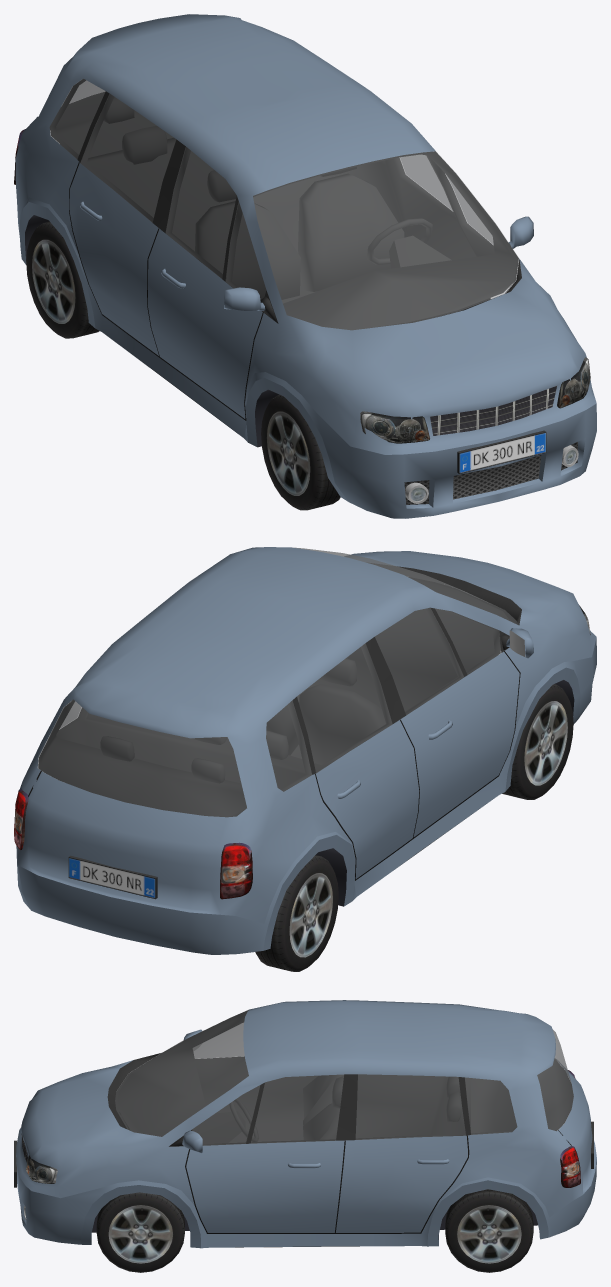
The model's file is sweethome3d-scopia-minivan.glb.
The picture shows the model from 3 angles, top to bottom: view 1: azimuth 30°, elevation 25°; view 2: azimuth 150°, elevation 25°; view 3: azimuth 270°, elevation 25°; orthographic projection. The views are drawn at different scales.
Visible parts, largest first — view 1: Car, Glass, Interior, wheels, HeadLights, LicensePlate, Lines, FogLights; view 2: Car, Glass, Interior, wheels, RearLights, LicensePlate, Lines; view 3: Car, Glass, Interior, wheels, RearLights, Lines, HeadLights.
Boxes of the visible parts, x1,y1,x2,y2 form: Car: (15, 14, 596, 518); Glass: (49, 58, 519, 330); Interior: (49, 79, 518, 330); wheels: (26, 221, 340, 510); HeadLights: (360, 357, 590, 443); LicensePlate: (457, 430, 546, 473); Lines: (69, 162, 263, 420); FogLights: (405, 445, 578, 503); Car: (16, 547, 596, 954); Glass: (37, 547, 518, 817); Interior: (38, 577, 518, 817); wheels: (255, 684, 573, 971); RearLights: (14, 789, 252, 899); LicensePlate: (68, 610, 518, 899); Lines: (28, 651, 520, 880); Car: (16, 1000, 596, 1248); Glass: (115, 1010, 573, 1145); Interior: (115, 1010, 573, 1145); wheels: (96, 1112, 533, 1272); RearLights: (560, 1070, 580, 1187); Lines: (185, 1130, 571, 1233); HeadLights: (26, 1155, 57, 1183).
Bounding box in the file's own units: 213 × 179 × 467.
Materials: 15 (7 with a texture image).
